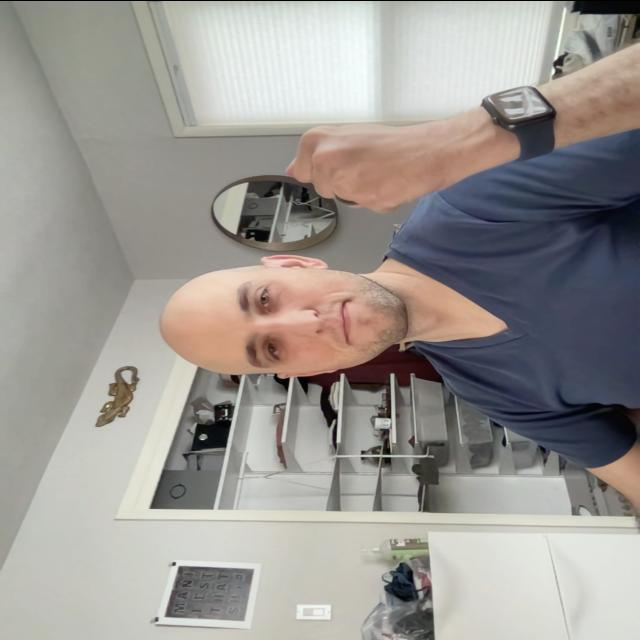Rock: (281, 120, 435, 212)
